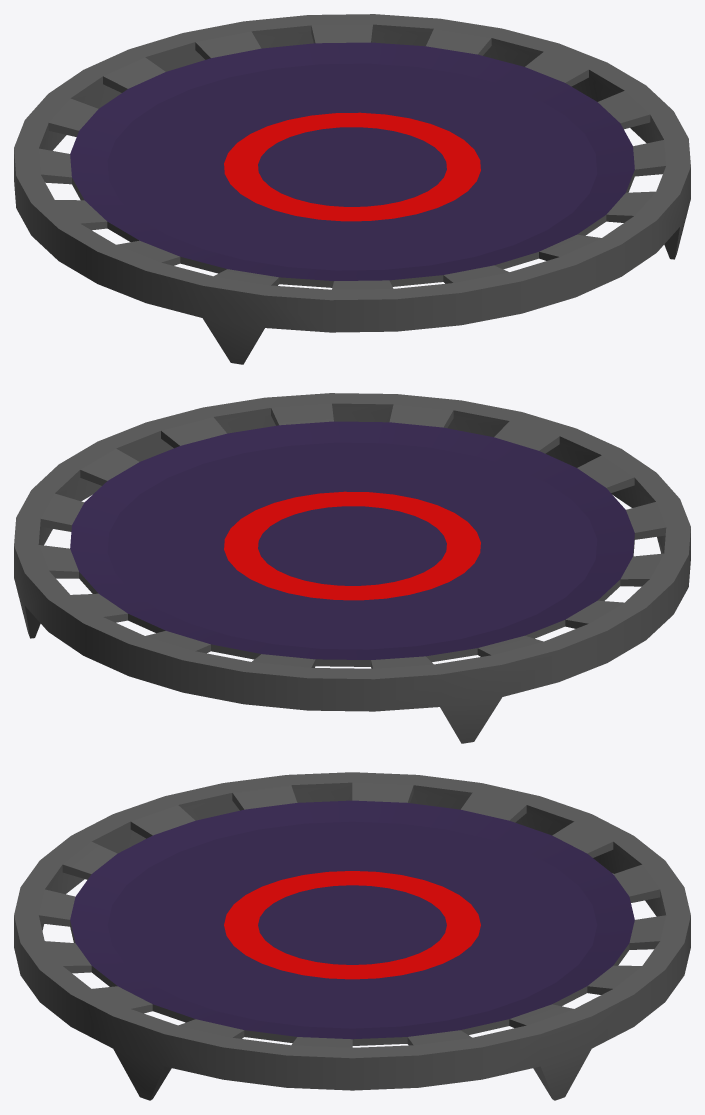
The model's file is Unity_Trampoline.fbx.
3 renders of one model, top to bottom at view 1: azimuth 30°, elevation 25°; view 2: azimuth 150°, elevation 25°; view 3: azimuth 270°, elevation 25°, orthographic.
Parts seen in each view (by area): view 1: Cylinder.001, Cylinder; view 2: Cylinder.001, Cylinder; view 3: Cylinder.001, Cylinder.
Boxes of the visible parts, x1,y1,x2,y2 form: Cylinder.001: (70, 42, 634, 280); Cylinder: (14, 14, 690, 364); Cylinder.001: (70, 421, 634, 659); Cylinder: (14, 393, 690, 743); Cylinder.001: (70, 800, 634, 1039); Cylinder: (14, 772, 690, 1100).
Size of the model in its own units: 380 by 47.66 by 380.
